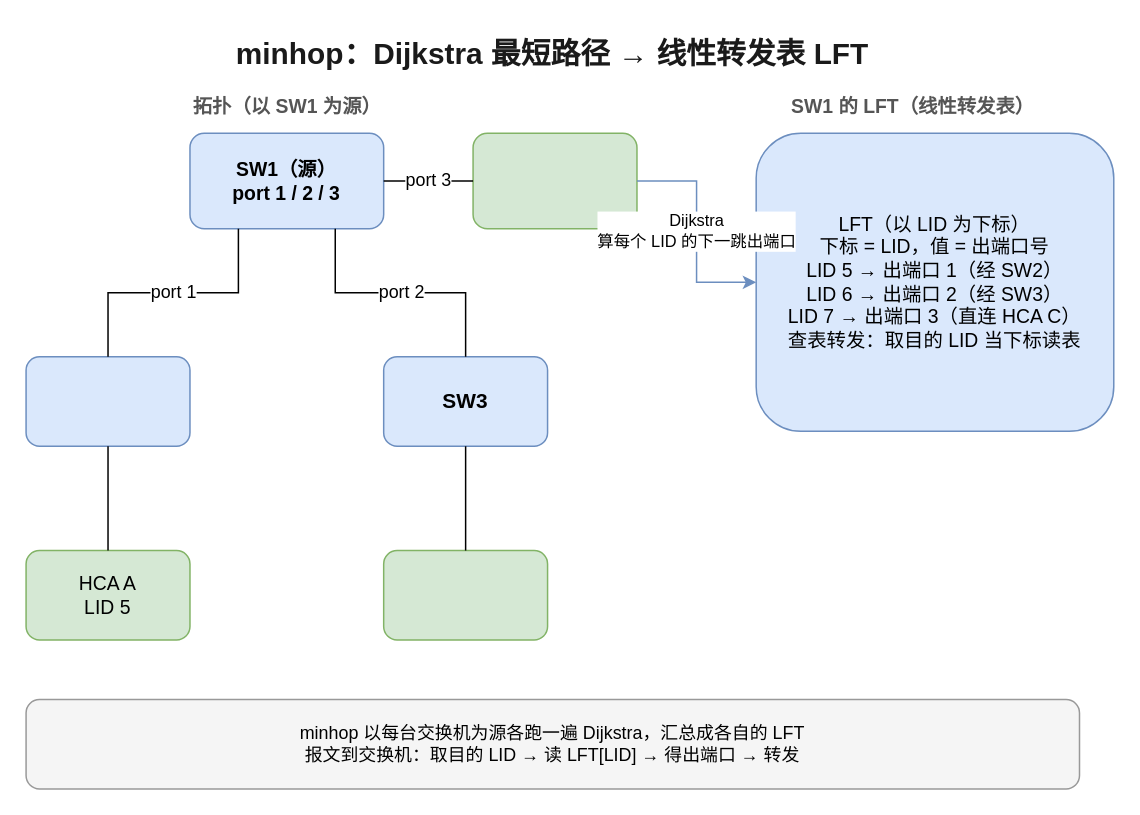
Some shapes in this 1140 by 815 pixel diagram are drawn without their labels. The shapes that lost their labels are listed below. From the top down, each one's box as (x1, y1, x2, y2) in pixels, then its label:
(472, 132, 637, 229): HCA C LID 7
(25, 355, 190, 446): SW2
(382, 549, 548, 640): HCA B LID 6
